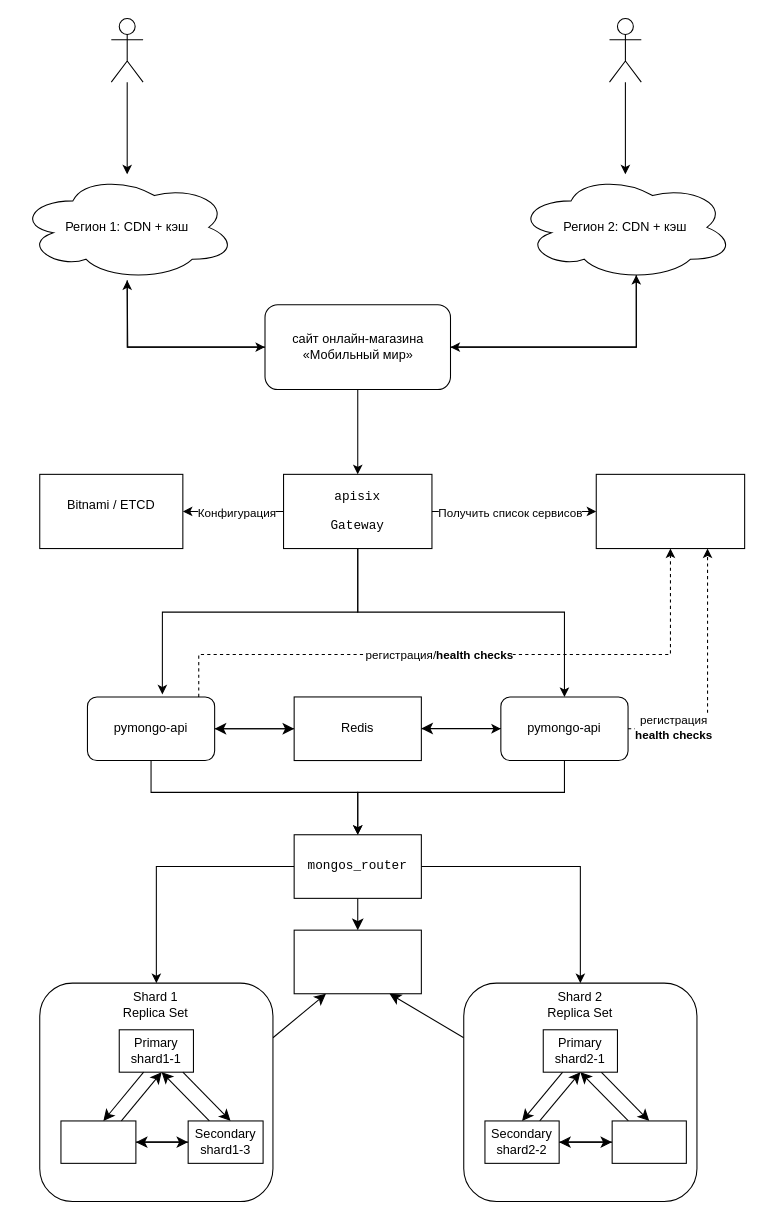
Image size: 763x1220. Some labels were removed from this diagram. The shapes that lost their labels are listed below. From the top down, each one's box as (x1, y1, x2, y2) in pixels, then its label:
(110, 17, 143, 82): User Region 1
(608, 17, 641, 82): User Region 2
(595, 473, 745, 549): Consul
(293, 929, 421, 994): configSrv Replica Set
(60, 1120, 136, 1163): Secondary shard1-2
(611, 1120, 686, 1163): Secondary shard2-3
